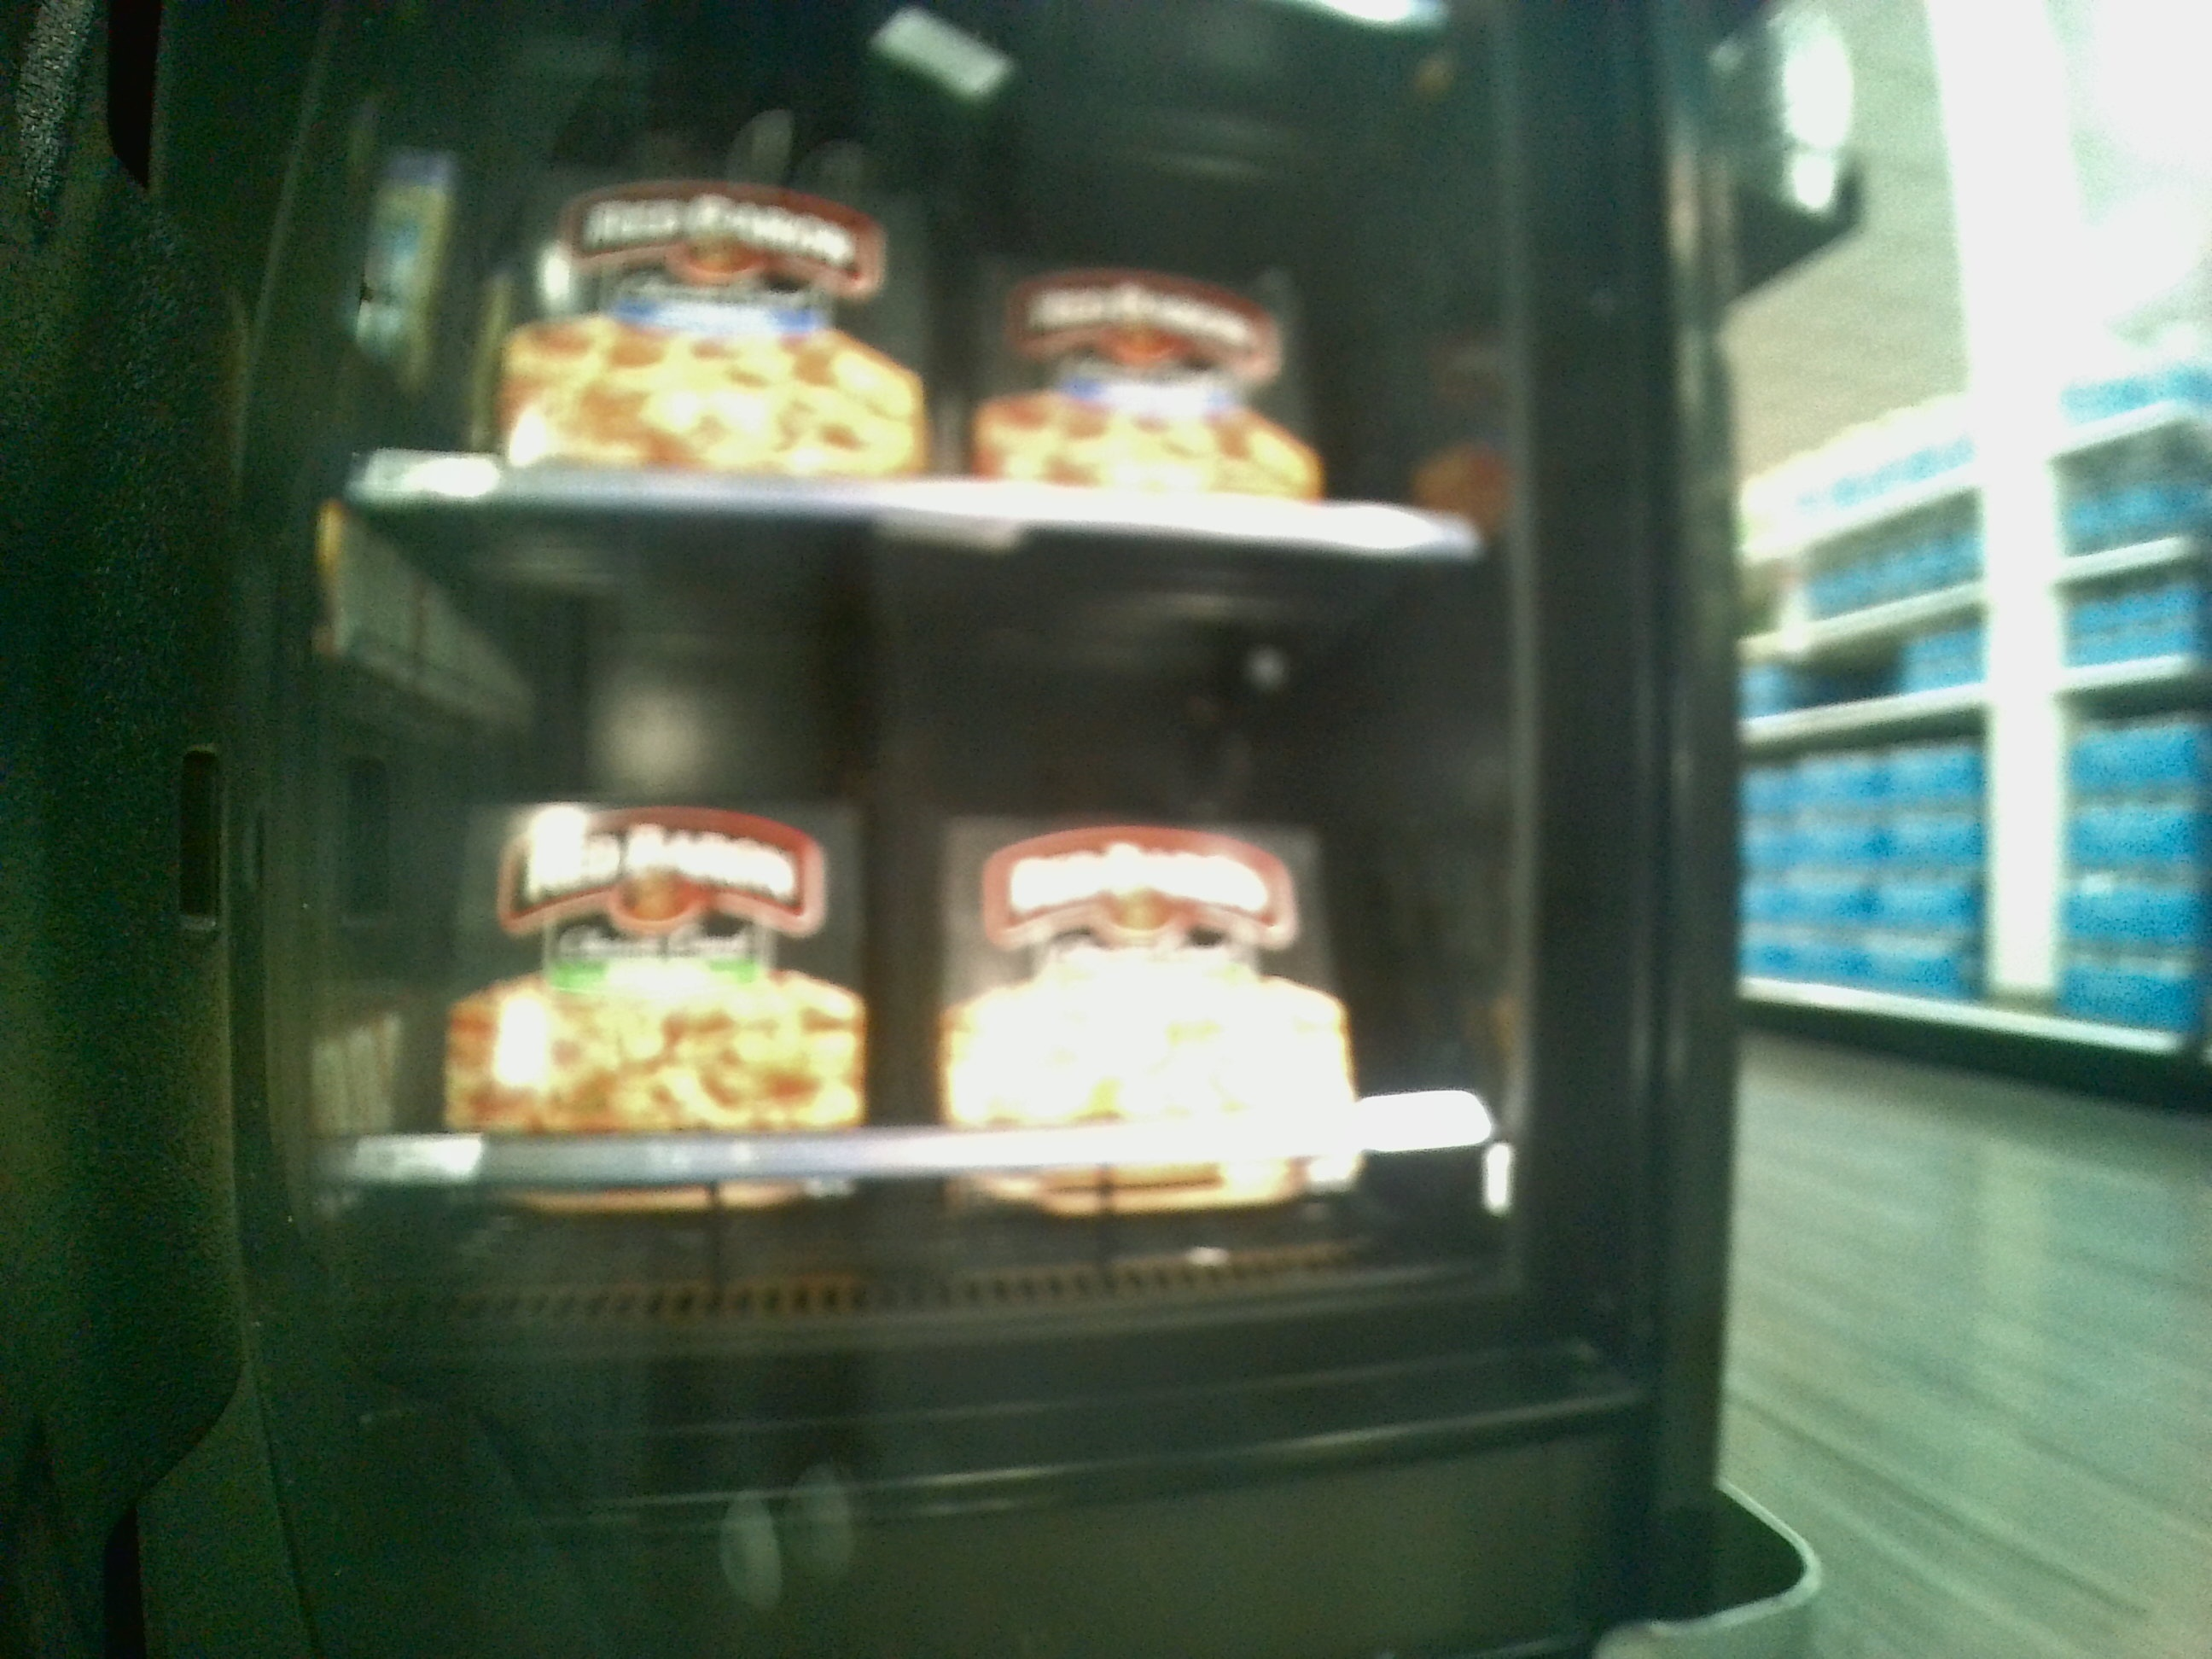shelf: (355, 538, 1489, 1279)
